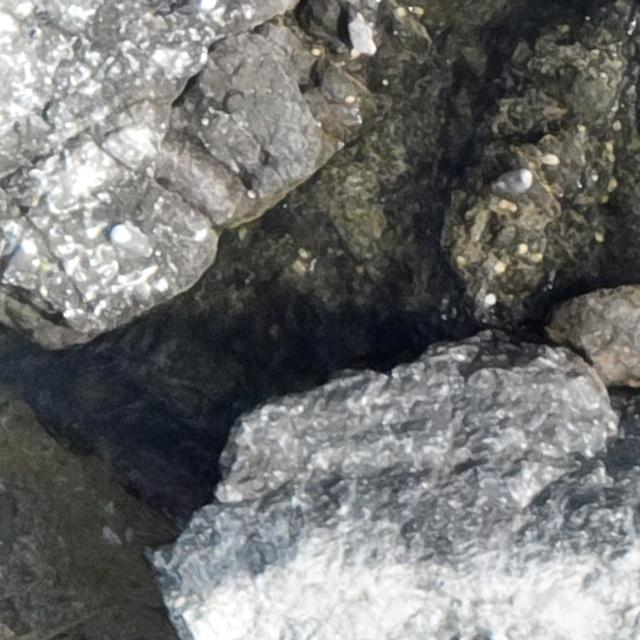umineko: (114, 226, 152, 260)
